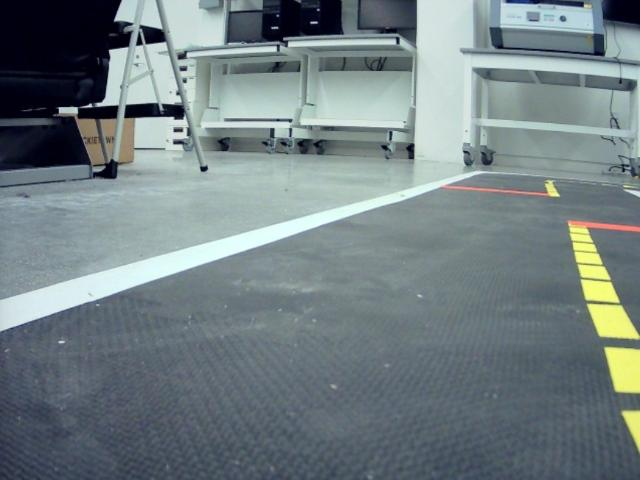redline: (441, 184, 549, 198), (569, 221, 640, 232)
whiteline: (0, 171, 486, 333)
yellowline: (568, 219, 640, 455), (555, 179, 638, 190), (543, 179, 560, 198)
